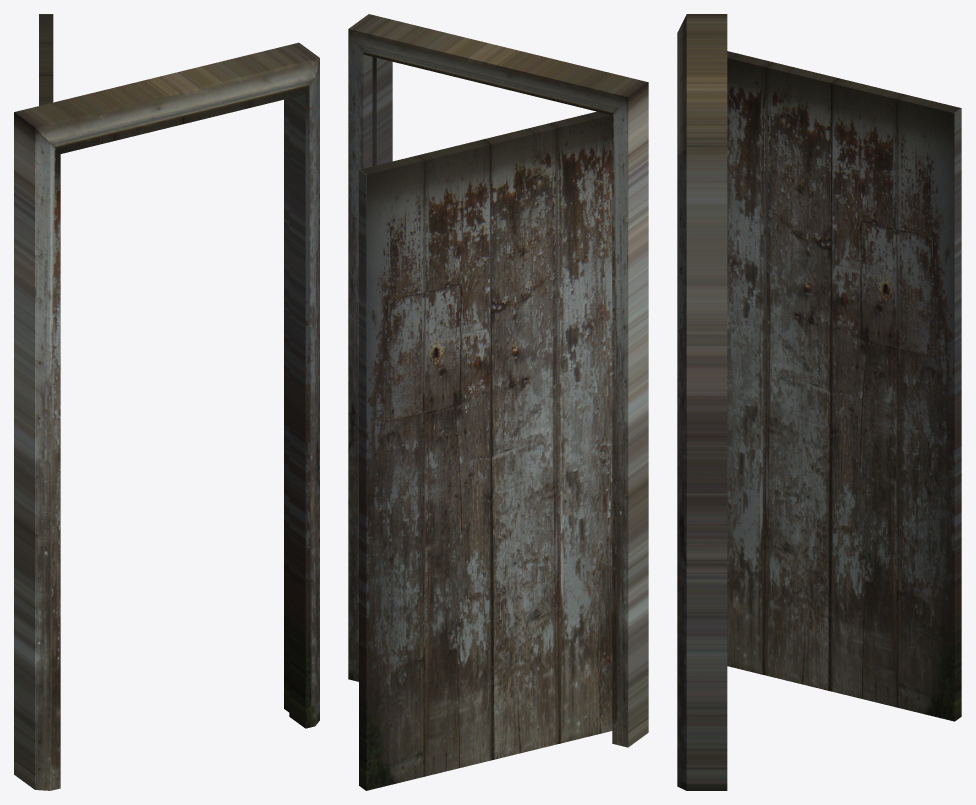
Rendered from kapi.fbx.
The picture shows the model from 3 angles, left to right: view 1: azimuth 30°, elevation 25°; view 2: azimuth 150°, elevation 25°; view 3: azimuth 270°, elevation 25°; orthographic projection. The views are drawn at different scales.
Visible parts, largest first — view 1: group_3, group_2; view 2: group_2, group_3; view 3: group_2, group_3.
Boxes of the visible parts, <box> form: group_3: <box>14,42,319,790</box>; group_2: <box>39,14,53,105</box>; group_2: <box>359,111,612,790</box>; group_3: <box>348,14,648,747</box>; group_2: <box>727,51,961,721</box>; group_3: <box>677,14,727,790</box>.
Bounding box in the file's own units: 263 × 585 × 235.
